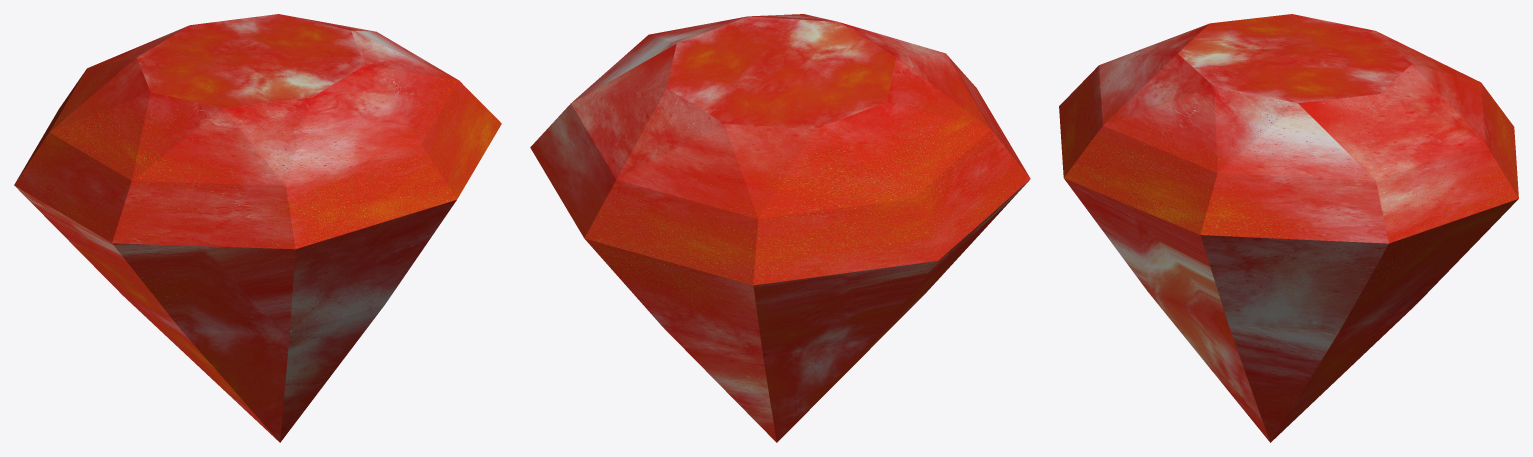
File: diamond-shape-top2.gltf
3 renders of one model, left to right at view 1: azimuth 30°, elevation 25°; view 2: azimuth 150°, elevation 25°; view 3: azimuth 270°, elevation 25°, orthographic.
Parts seen in each view (by area): view 1: dimond; view 2: dimond; view 3: dimond.
Part boxes in pixels (x1,y1,x2,y2): dimond: (14,14,501,442); dimond: (530,14,1030,442); dimond: (1059,14,1518,442).
Bounding box in the file's own units: 8.45 × 7.79 × 8.45.
